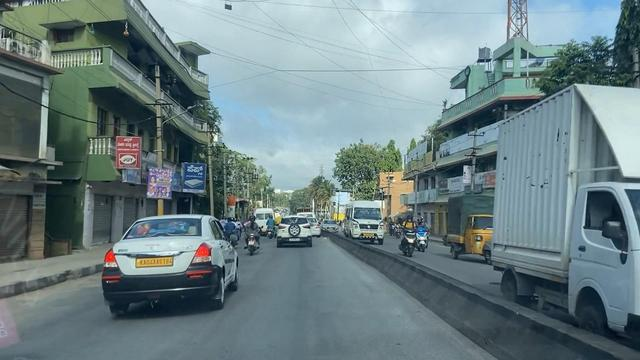LMV: (103, 217, 240, 316), (277, 217, 312, 248), (247, 214, 260, 255)
